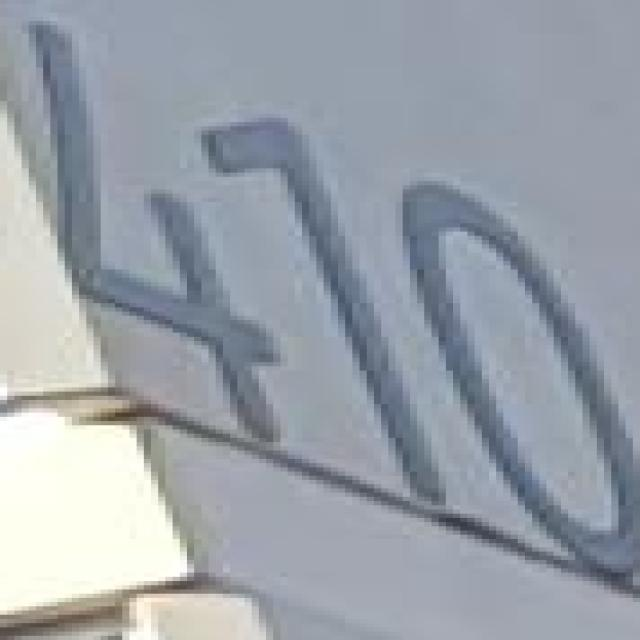character: (21, 13, 303, 451), (388, 173, 640, 585), (200, 110, 454, 512)
